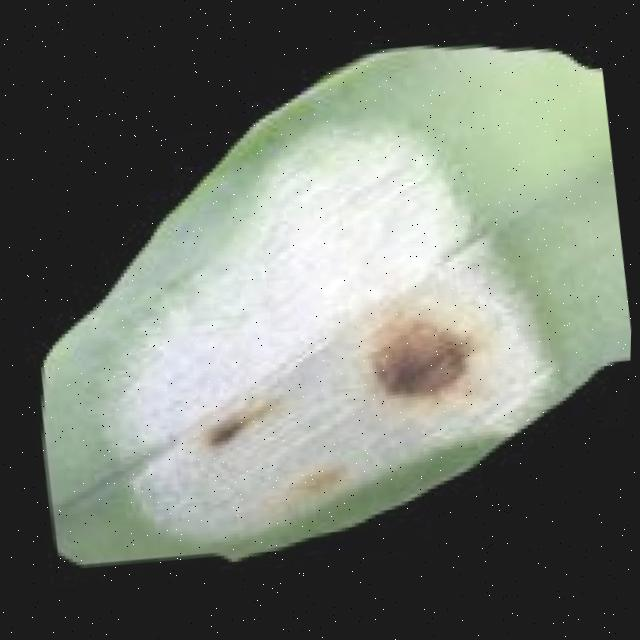mite: (187, 300, 489, 455), (381, 322, 463, 388), (207, 405, 260, 447)
spots: (0, 22, 633, 577)
sunburn: (362, 300, 485, 403)
